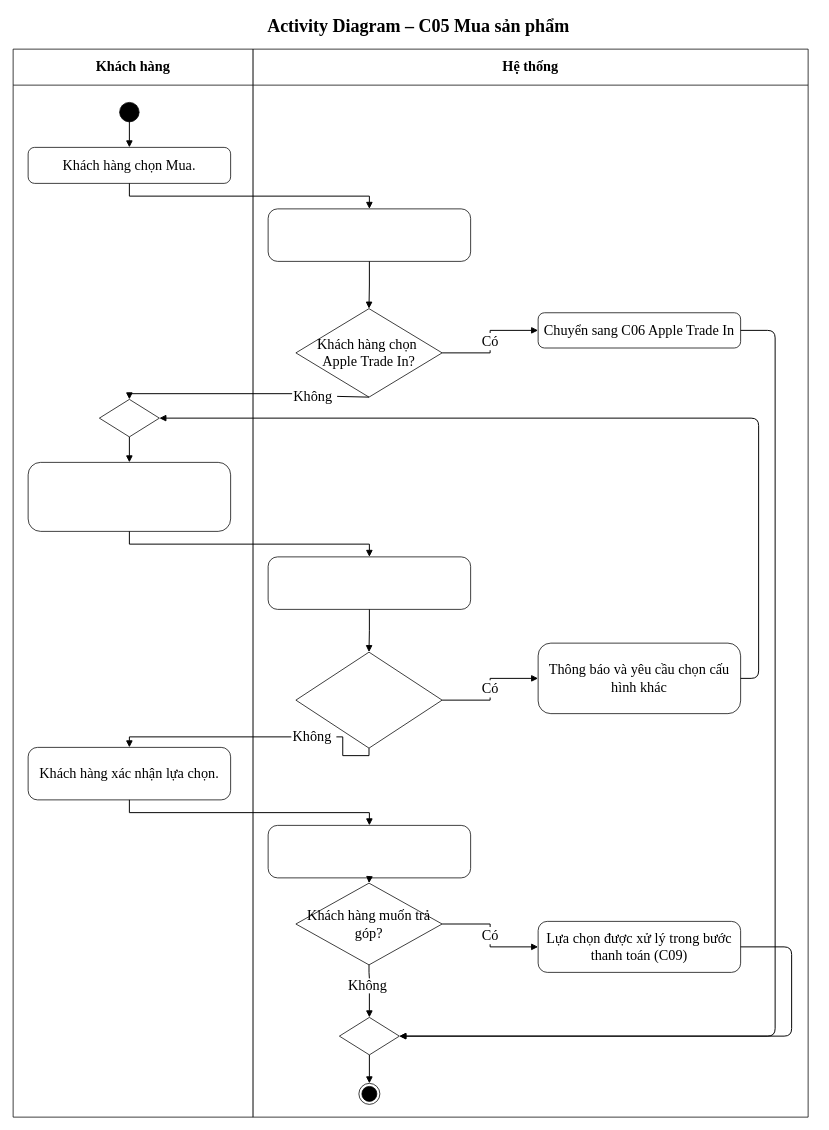
This 829x1130 diagram has some shape labels left out. Each missing label, with the box of its shape:
Cấu hình không khả dụng?: (295, 651, 442, 748)
Hệ thống cập nhật giá và tình trạng khả dụng.: (267, 556, 471, 609)
Hệ thống hiển thị trang cấu hình/tùy chọn của sản phẩm.: (267, 208, 471, 261)
Hệ thống thêm sản phẩm vào giỏ hàng.: (267, 825, 471, 878)
Khách hàng chọn phiên bản, màu, dung lượng hoặc tùy chọn áp dụng.: (27, 462, 231, 531)
